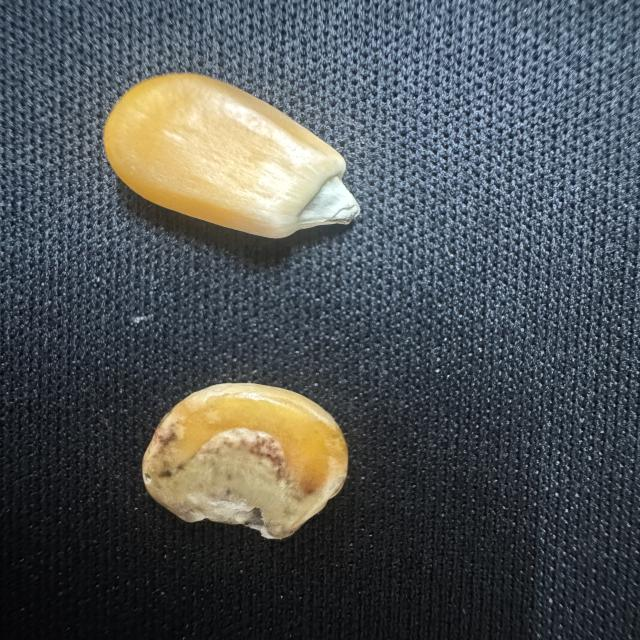Bad-Seed: (125, 375, 360, 550)
Good-Seed: (98, 70, 372, 252)
